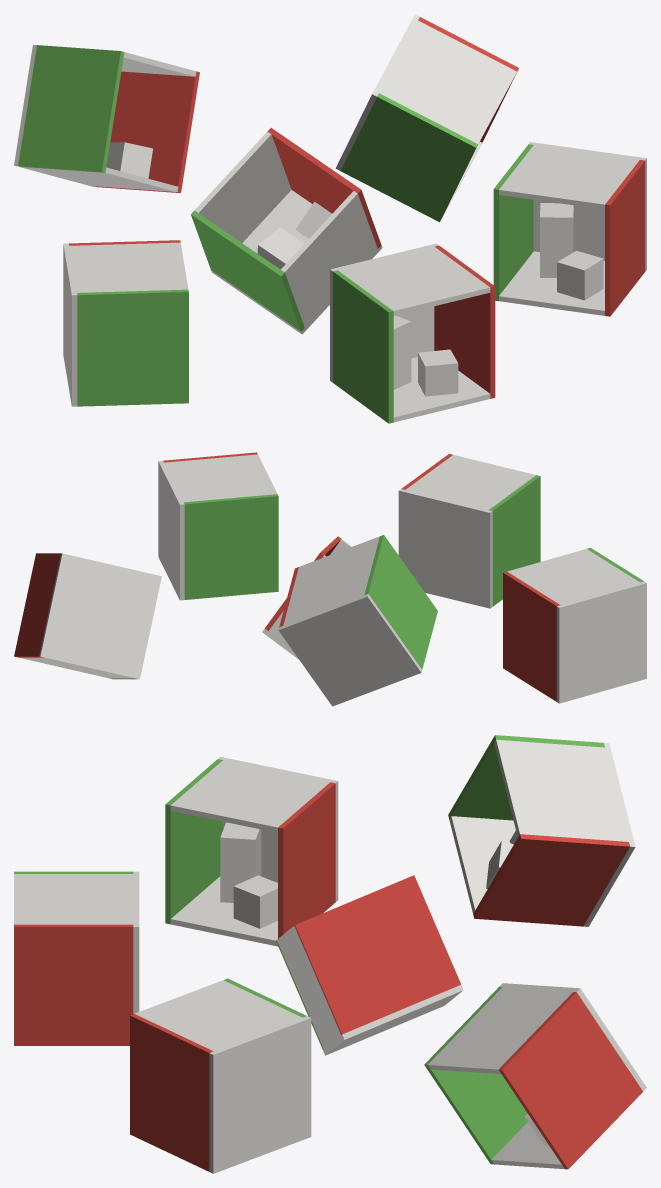
Rendered from multi-cornell.glb.
3 views of the same model, one above another, from view 1: azimuth 30°, elevation 25°; view 2: azimuth 150°, elevation 25°; view 3: azimuth 270°, elevation 25° (orthographic). The views are drawn at different scales.
Visible parts, largest first — view 1: SideWallL.002, SideWallL.003, SideWallL.004, Ceiling.004, SideWallR.003, SideWallL, Ceiling.001, Ceiling, Floor.005, Ceiling.002, Ceiling.005, SideWallR (+19 smaller); view 2: BackWall.004, SideWallL.001, BackWall.003, BackWall.002, BackWall, SideWallR.002, SideWallL.003, Ceiling.003, SideWallL, Ceiling.001, Ceiling, Ceiling.002 (+4 smaller); view 3: SideWallR.005, SideWallR, SideWallR.004, BackWall.001, Ceiling.003, SideWallR.003, SideWallR.001, SideWallR.002, Ceiling.002, Ceiling.004, Ceiling.001, Ceiling (+13 smaller).
Boxes of the visible parts, left/top/right/bottom form: SideWallL.002: left=77, top=289, right=188, bottom=406; SideWallL.003: left=18, top=45, right=124, bottom=172; SideWallL.004: left=340, top=93, right=477, bottom=222; Ceiling.004: left=379, top=20, right=516, bottom=144; SideWallR.003: left=95, top=71, right=199, bottom=192; SideWallL: left=333, top=270, right=393, bottom=423; Ceiling.001: left=499, top=145, right=639, bottom=209; Ceiling: left=338, top=246, right=490, bottom=315; Floor.005: left=281, top=191, right=377, bottom=327; Ceiling.002: left=69, top=242, right=188, bottom=292; Ceiling.005: left=194, top=131, right=291, bottom=242; SideWallR: left=434, top=245, right=495, bottom=398; BackWall.004: left=39, top=553, right=161, bottom=679; SideWallL.001: left=184, top=494, right=278, bottom=599; BackWall.003: left=278, top=594, right=422, bottom=706; BackWall.002: left=556, top=581, right=646, bottom=703; BackWall: left=398, top=489, right=492, bottom=608; SideWallR.002: left=503, top=571, right=560, bottom=701; SideWallL.003: left=364, top=535, right=437, bottom=669; Ceiling.003: left=283, top=536, right=379, bottom=625; SideWallL: left=489, top=475, right=540, bottom=606; Ceiling.001: left=164, top=454, right=277, bottom=502; Ceiling: left=405, top=455, right=535, bottom=509; Ceiling.002: left=507, top=549, right=639, bottom=604; SideWallR.005: left=294, top=875, right=460, bottom=1034; SideWallR: left=14, top=924, right=133, bottom=1045; SideWallR.004: left=498, top=992, right=642, bottom=1169; BackWall.001: left=209, top=1016, right=311, bottom=1173; Ceiling.003: left=494, top=739, right=628, bottom=841; SideWallR.003: left=473, top=834, right=629, bottom=926; SideWallR.001: left=130, top=1014, right=213, bottom=1171; SideWallR.002: left=278, top=782, right=335, bottom=946; Ceiling.002: left=170, top=760, right=329, bottom=832; Ceiling.004: left=428, top=987, right=572, bottom=1073; Ceiling.001: left=135, top=980, right=302, bottom=1051; Ceiling: left=14, top=874, right=133, bottom=924.
Size of the model in its own units: 29.93 by 12.36 by 26.51.
